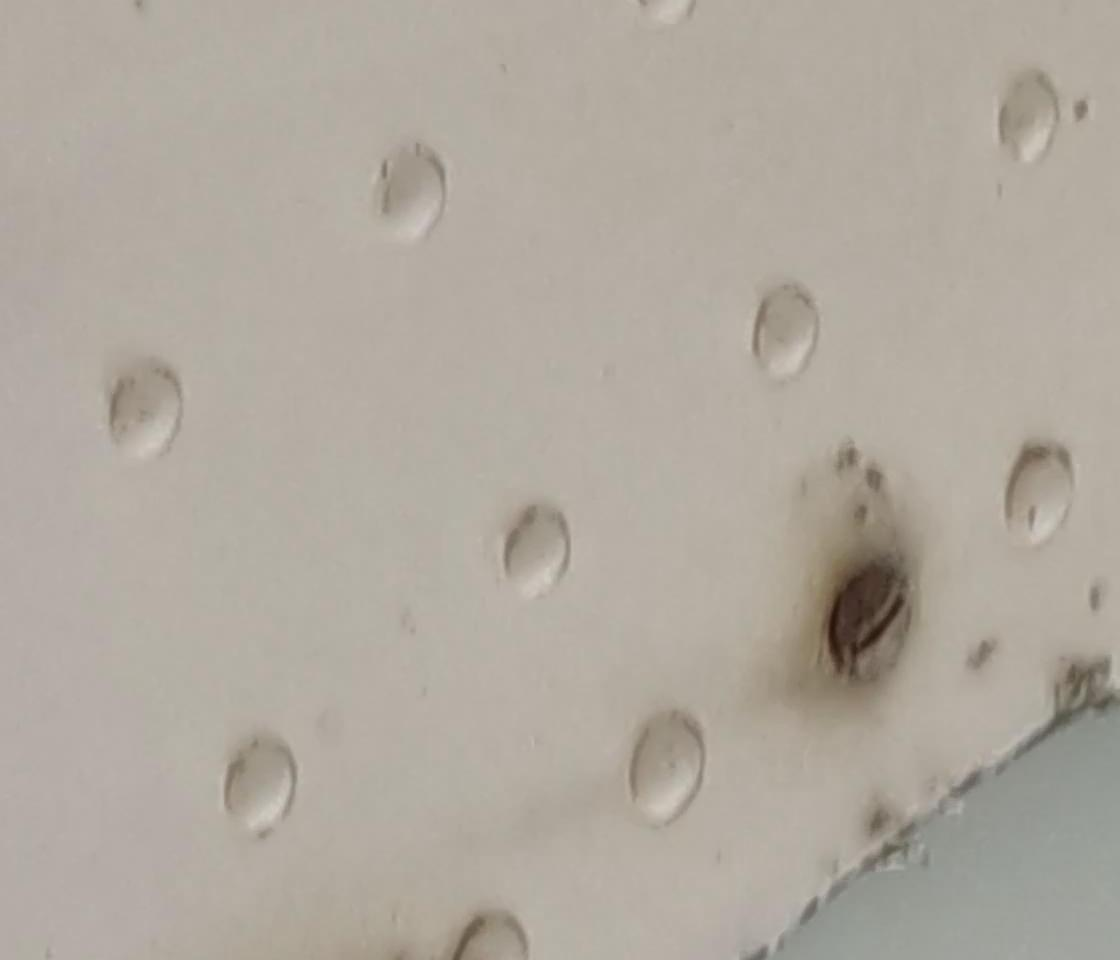rust: (822, 548, 917, 682)
